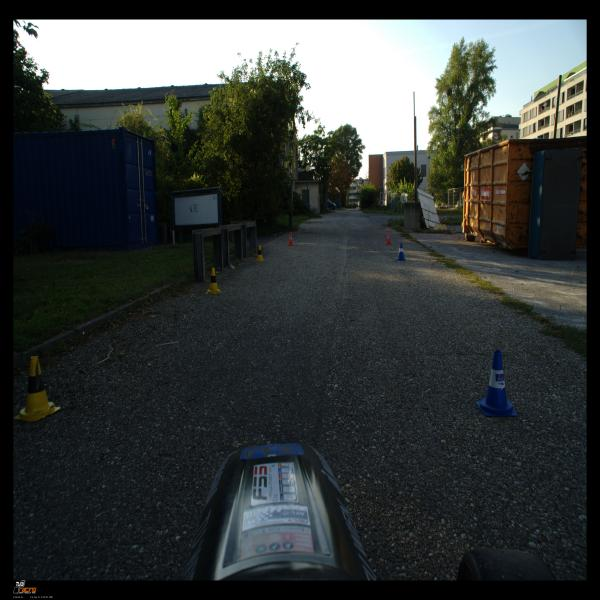blue_cone: (476, 350, 517, 416), (396, 243, 406, 261)
orange_cone: (385, 230, 392, 245), (287, 232, 294, 246)
yellow_cone: (14, 356, 61, 421), (205, 268, 222, 294), (255, 245, 265, 262)
